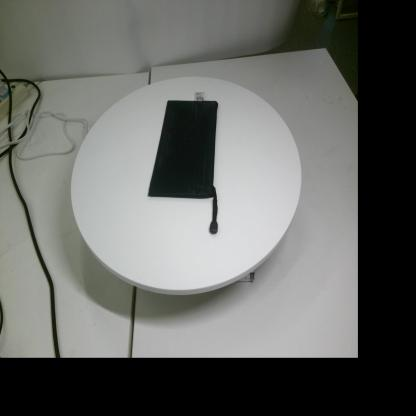Stationery: (148, 92, 218, 233)
